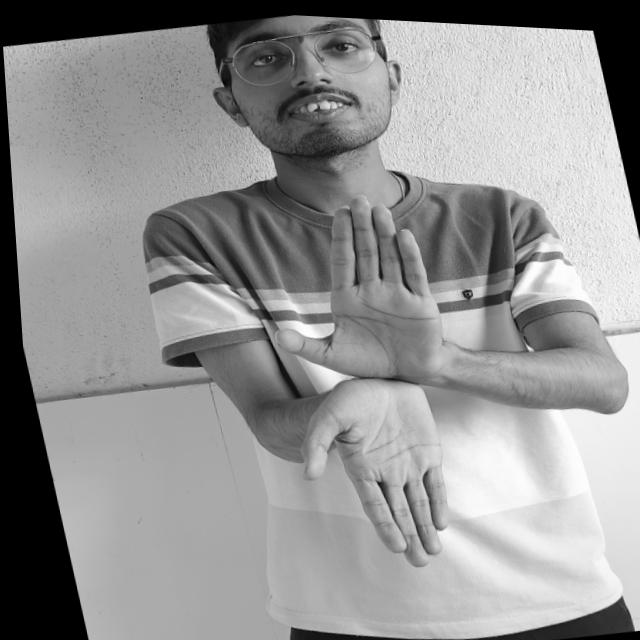Morning: (188, 148, 623, 603)
